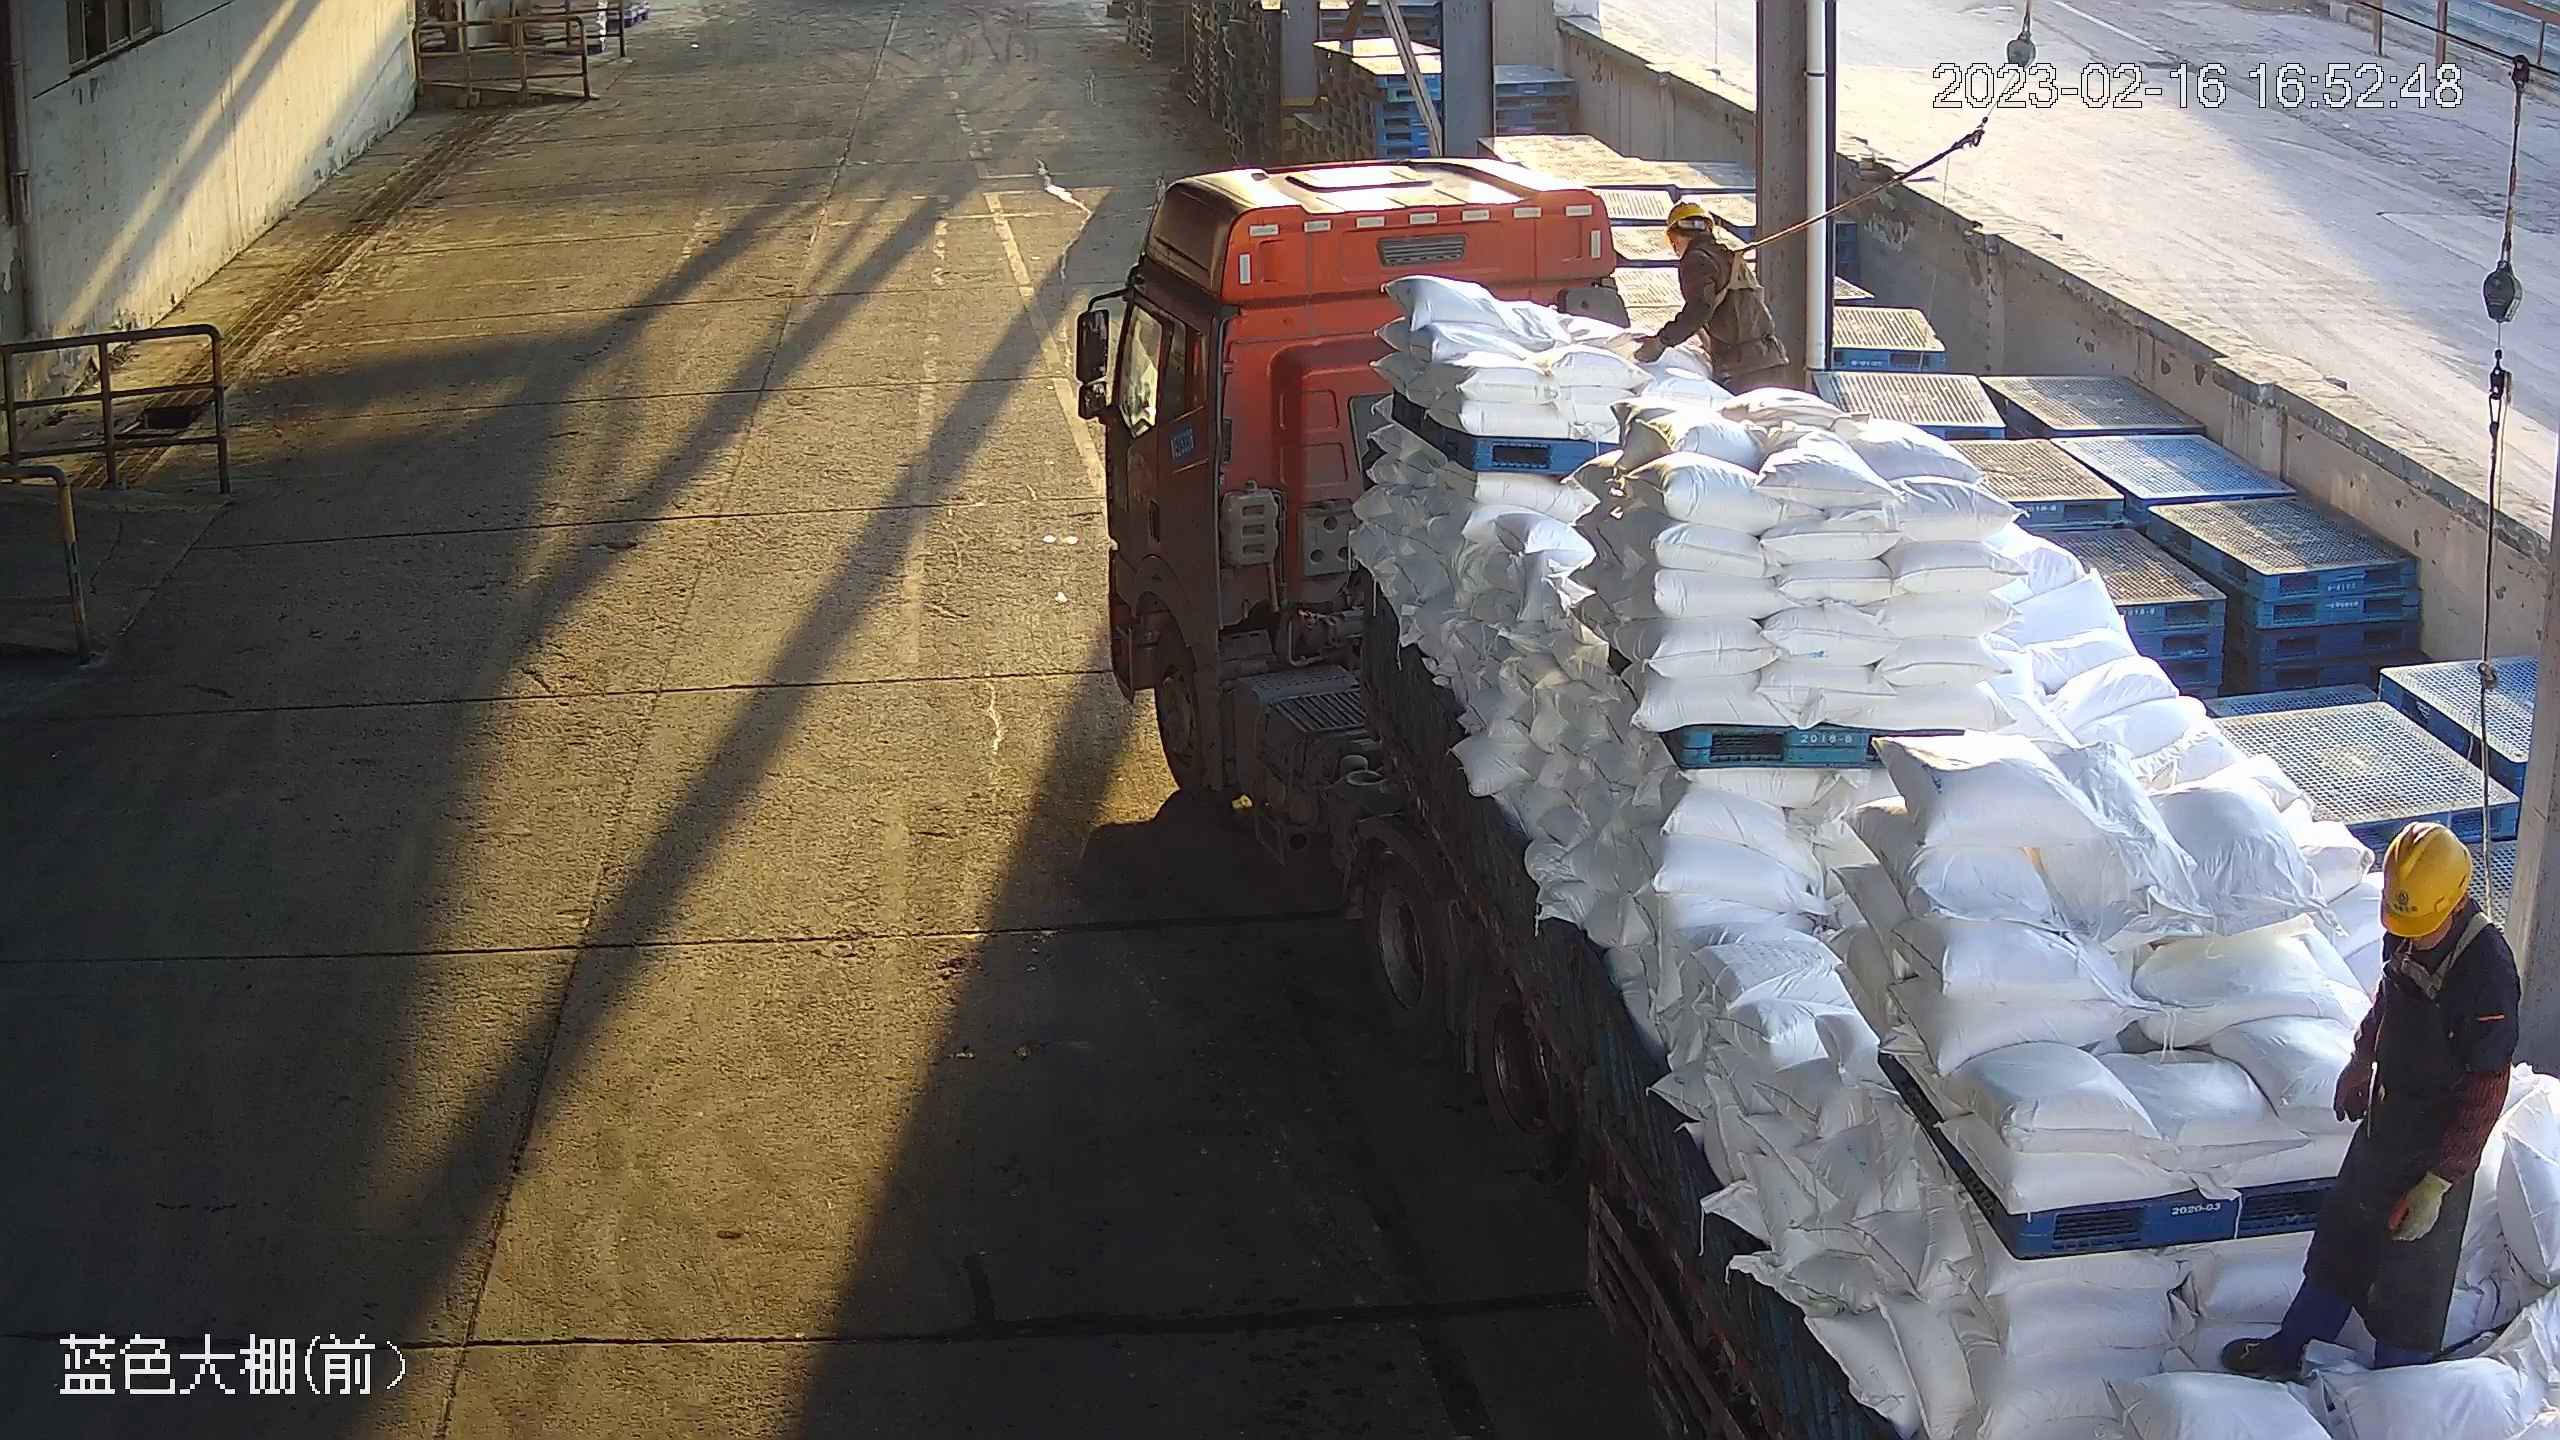belt: (2392, 894, 2498, 992), (1699, 225, 1764, 310)
head: (2325, 821, 2522, 1045), (1660, 200, 1749, 281)
helmet: (2366, 817, 2481, 937), (1652, 195, 1719, 237)
people: (2225, 816, 2526, 1386)
truck: (1073, 145, 2560, 1440)
